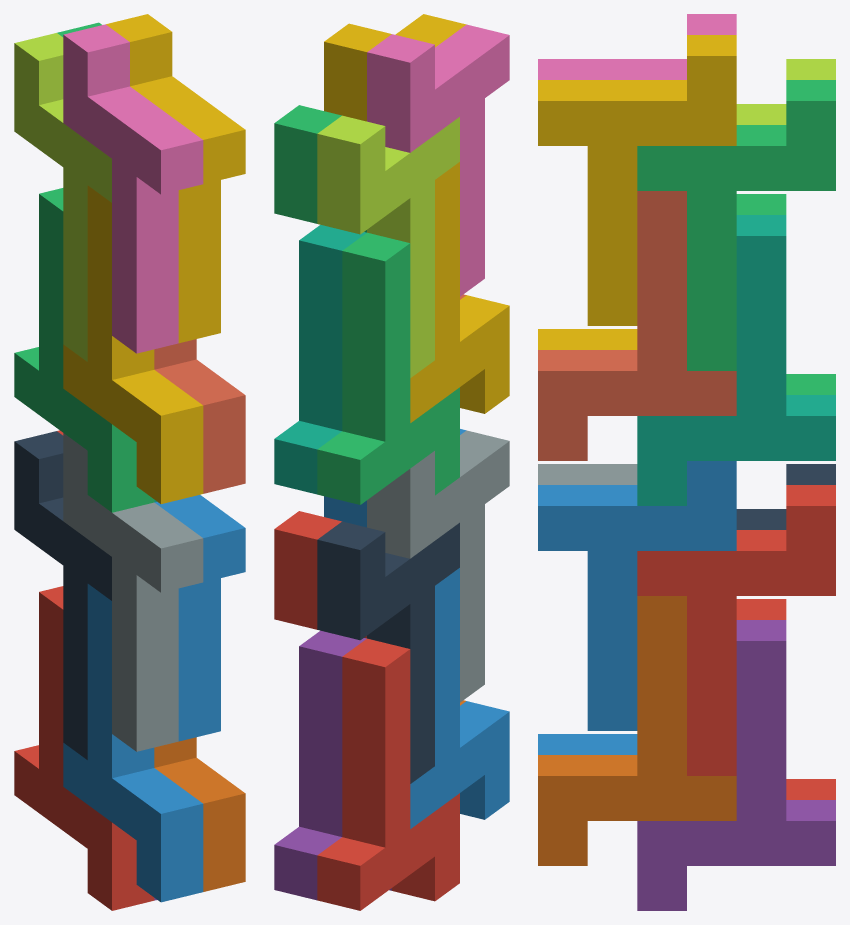
Rendered from tiling.obj.
The picture shows the model from 3 angles, left to right: view 1: azimuth 30°, elevation 25°; view 2: azimuth 150°, elevation 25°; view 3: azimuth 270°, elevation 25°; orthographic projection.
Parts seen in each view (by area): view 1: copy_2_domain_4, copy_2_domain_2, copy_1_domain_4, copy_1_domain_2, copy_2_domain_8, copy_1_domain_1, copy_1_domain_3, copy_2_domain_3, copy_2_domain_1, copy_2_domain_6, copy_1_domain_8, copy_1_domain_6; view 2: copy_1_domain_1, copy_1_domain_3, copy_2_domain_4, copy_2_domain_1, copy_2_domain_3, copy_2_domain_2, copy_1_domain_2, copy_1_domain_4, copy_1_domain_5, copy_1_domain_7, copy_2_domain_8, copy_2_domain_7 (+2 smaller); view 3: copy_2_domain_8, copy_1_domain_5, copy_1_domain_7, copy_2_domain_6, copy_2_domain_5, copy_2_domain_7, copy_1_domain_6, copy_1_domain_8, copy_2_domain_4, copy_1_domain_1, copy_1_domain_3, copy_2_domain_1 (+4 smaller).
Boxes of the visible parts, x1=… form: copy_2_domain_4: x1=63, y1=24, x2=203, y2=353; copy_2_domain_2: x1=63, y1=433, x2=203, y2=751; copy_1_domain_4: x1=63, y1=185, x2=203, y2=503; copy_1_domain_2: x1=63, y1=584, x2=203, y2=902; copy_2_domain_8: x1=106, y1=14, x2=245, y2=343; copy_1_domain_1: x1=14, y1=586, x2=154, y2=910; copy_1_domain_3: x1=14, y1=188, x2=154, y2=512; copy_2_domain_3: x1=14, y1=33, x2=111, y2=361; copy_2_domain_1: x1=14, y1=431, x2=111, y2=759; copy_2_domain_6: x1=154, y1=495, x2=245, y2=741; copy_1_domain_8: x1=154, y1=339, x2=245, y2=493; copy_1_domain_6: x1=154, y1=737, x2=245, y2=891; copy_1_domain_1: x1=317, y1=638, x2=459, y2=910; copy_1_domain_3: x1=317, y1=232, x2=459, y2=504; copy_2_domain_4: x1=367, y1=24, x2=509, y2=296; copy_2_domain_1: x1=317, y1=521, x2=459, y2=783; copy_2_domain_3: x1=317, y1=115, x2=459, y2=377; copy_2_domain_2: x1=367, y1=430, x2=509, y2=702; copy_1_domain_2: x1=410, y1=568, x2=509, y2=828; copy_1_domain_4: x1=410, y1=162, x2=509, y2=422; copy_1_domain_5: x1=274, y1=630, x2=391, y2=900; copy_1_domain_7: x1=274, y1=225, x2=366, y2=494; copy_2_domain_8: x1=324, y1=14, x2=466, y2=121; copy_2_domain_7: x1=274, y1=105, x2=366, y2=232; copy_2_domain_8: x1=538, y1=35, x2=736, y2=325; copy_1_domain_5: x1=637, y1=620, x2=835, y2=910; copy_1_domain_7: x1=637, y1=215, x2=835, y2=505; copy_2_domain_6: x1=538, y1=461, x2=736, y2=730; copy_2_domain_5: x1=637, y1=485, x2=835, y2=775; copy_2_domain_7: x1=637, y1=80, x2=835, y2=370; copy_1_domain_6: x1=538, y1=596, x2=736, y2=865; copy_1_domain_8: x1=538, y1=191, x2=736, y2=460; copy_2_domain_4: x1=538, y1=14, x2=736, y2=79; copy_1_domain_1: x1=736, y1=599, x2=835, y2=799; copy_1_domain_3: x1=736, y1=194, x2=835, y2=394; copy_2_domain_1: x1=736, y1=464, x2=835, y2=529.
Bounding box in the file's own units: 2 × 19 × 6.
